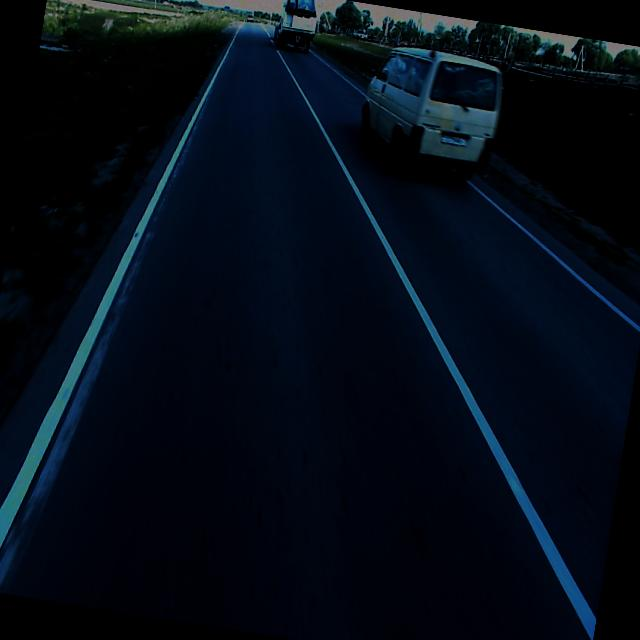road: (0, 21, 640, 640)
